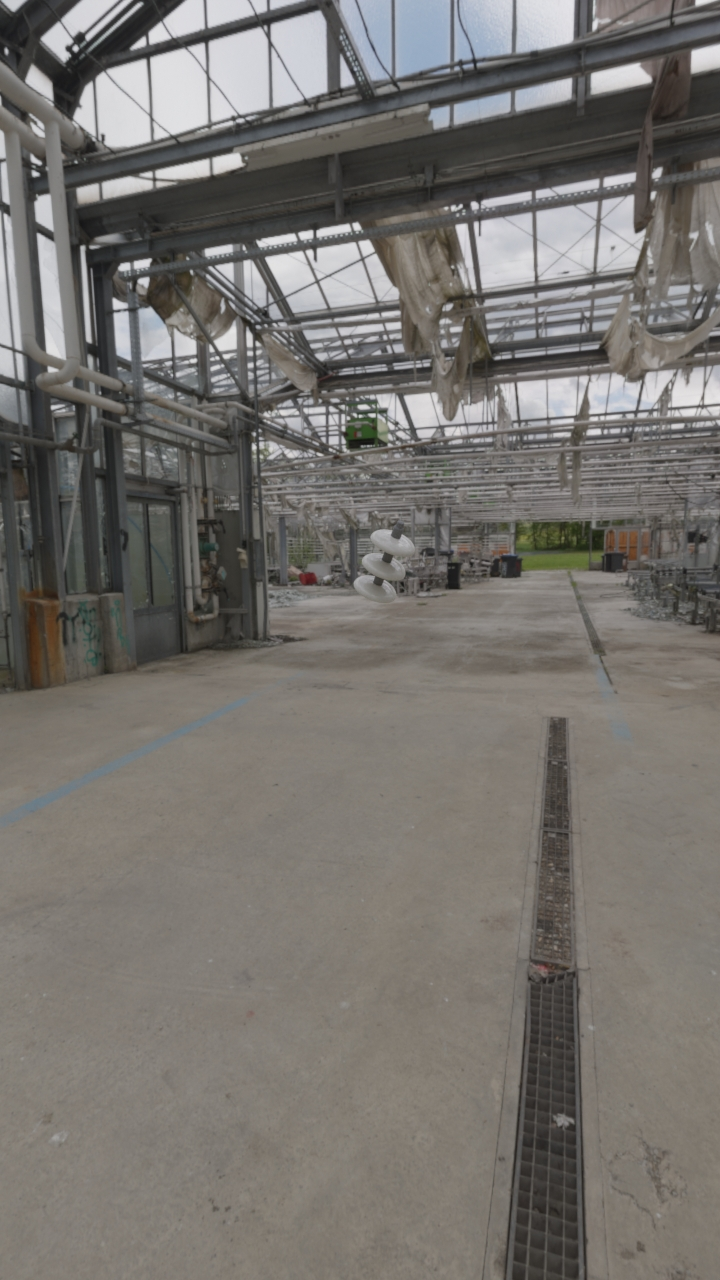ceramicinsulators: (354, 520, 414, 604)
